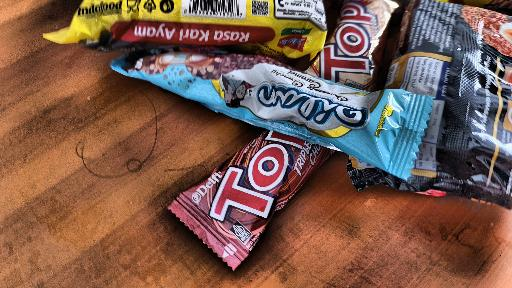dilan: (136, 41, 433, 173)
top: (167, 140, 335, 259), (311, 0, 414, 83)
